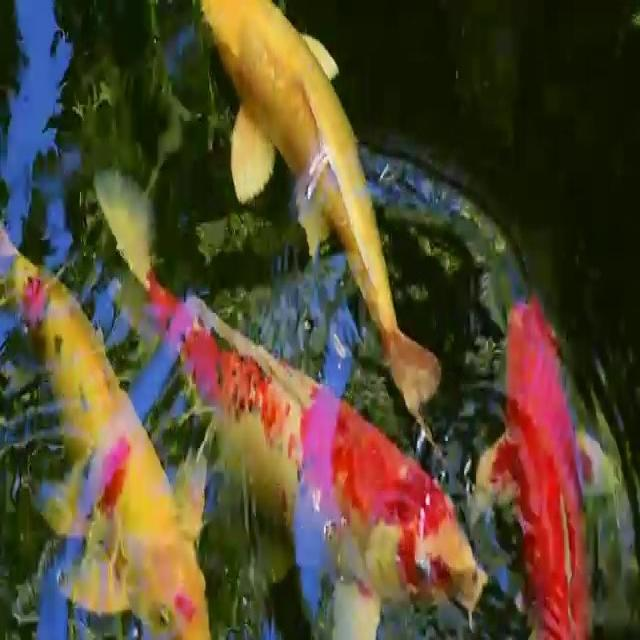fish: (148, 272, 486, 611), (209, 0, 457, 412), (22, 296, 215, 640), (491, 287, 594, 640)
